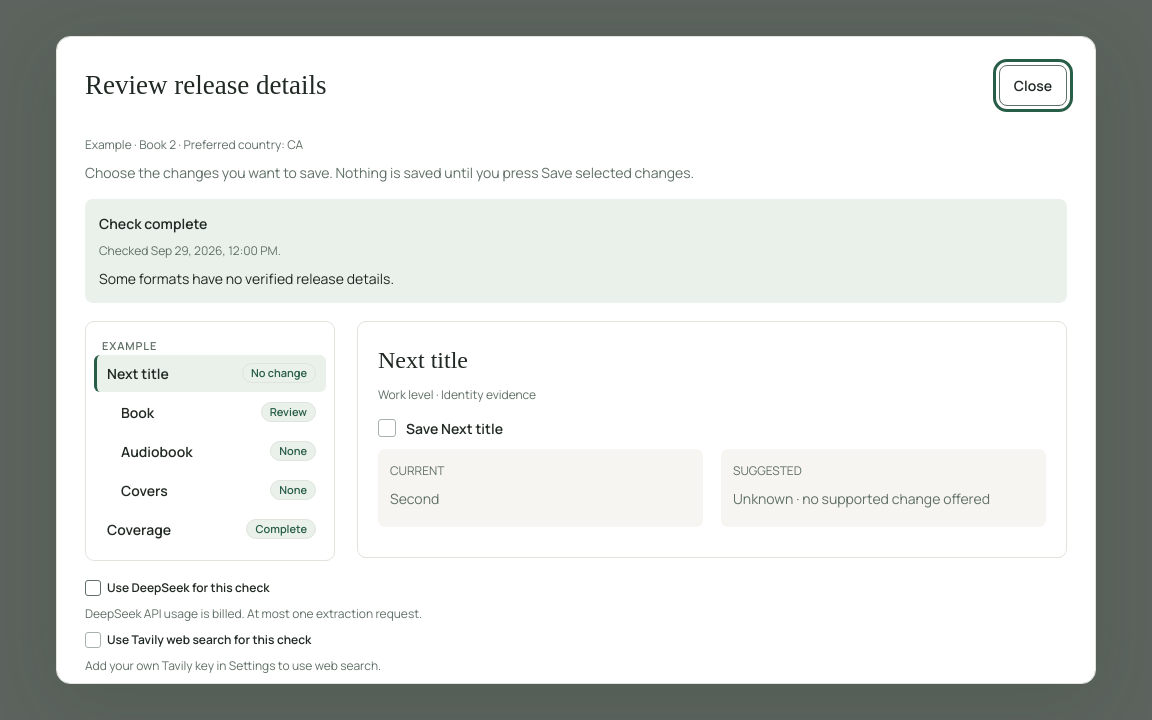
Test: fallback shows actual country and supported-date qualification with cited links
The width and height of the screenshot is (1152, 720).
Click the tab "Book Review" at point(217, 412), box [108, 394, 326, 430]
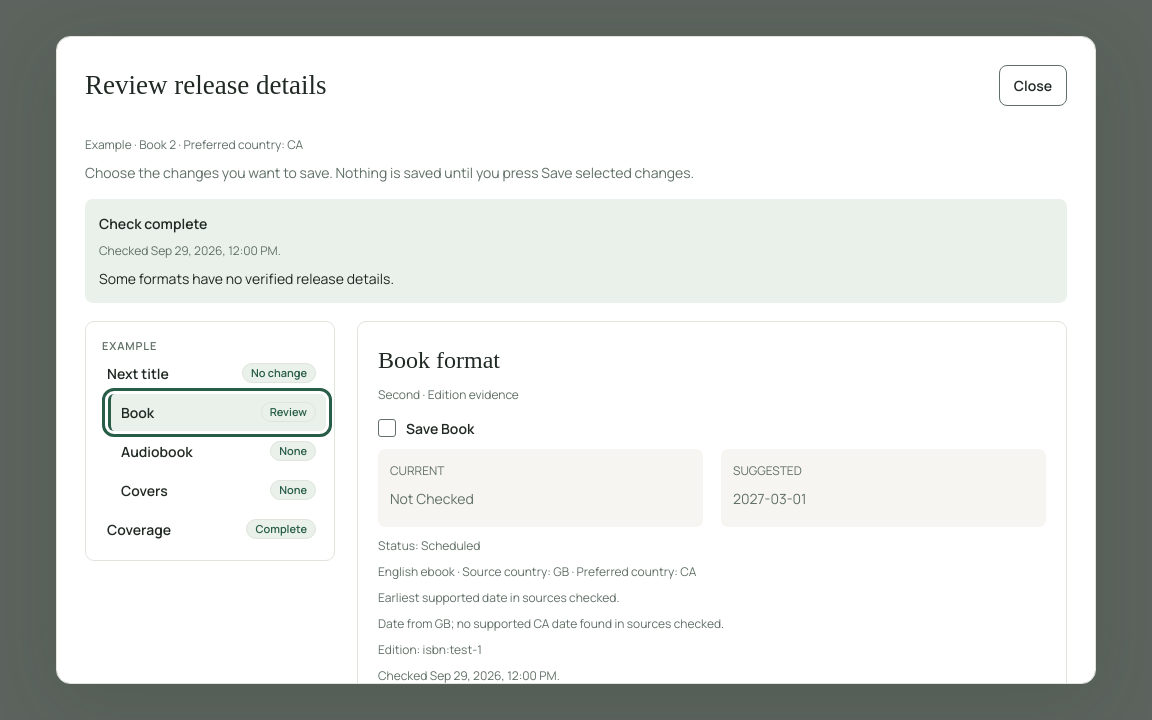
expect the text "Date from GB; no supported CA date found in sources checked." is shown: met, box [378, 614, 724, 632]
expect the text "Earliest supported date in sources checked." is shown: met, box [378, 588, 620, 606]
